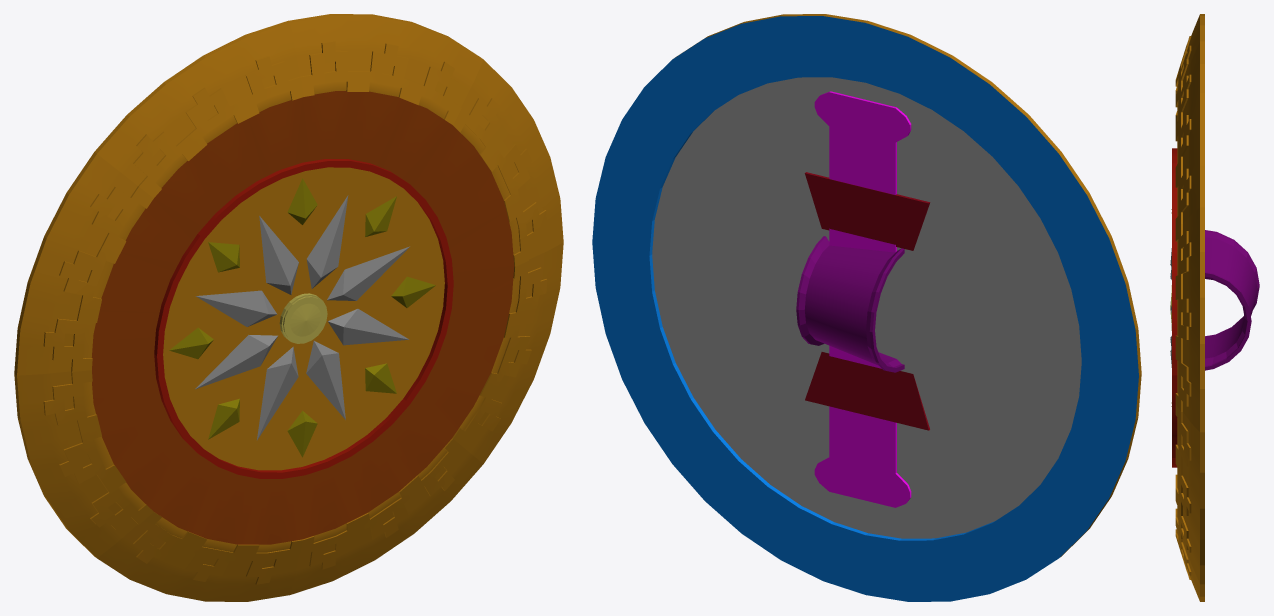
The model's file is Shield-Prefab.fbx.
The picture shows the model from 3 angles, left to right: view 1: azimuth 30°, elevation 25°; view 2: azimuth 150°, elevation 25°; view 3: azimuth 270°, elevation 25°; orthographic projection. The views are drawn at different scales.
Visible parts, largest first — view 1: shield, back_lp, middle, big_part, big_part4, big_part6, big_part2, big_part7, big_part23, big_part5, big_part3, small_part1 (+7 smaller); view 2: BACK_PANEL, back_lp, polySurface138, polySurface133, polySurface134, polySurface139, polySurface137, polySurface135; view 3: shield, polySurface138, back_lp.
Boxes of the visible parts, left/top/right/bottom form: shield: left=17, top=16, right=563, bottom=601; back_lp: left=14, top=14, right=480, bottom=557; middle: left=279, top=293, right=327, bottom=343; big_part: left=306, top=195, right=348, bottom=288; big_part4: left=257, top=346, right=298, bottom=440; big_part6: left=196, top=290, right=277, bottom=326; big_part2: left=328, top=309, right=408, bottom=345; big_part7: left=259, top=216, right=298, bottom=294; big_part23: left=327, top=246, right=409, bottom=300; big_part5: left=195, top=335, right=277, bottom=389; big_part3: left=306, top=341, right=345, bottom=419; small_part1: left=365, top=196, right=396, bottom=236; BACK_PANEL: left=652, top=77, right=1081, bottom=538; back_lp: left=592, top=14, right=1141, bottom=601; polySurface138: left=796, top=236, right=904, bottom=372; polySurface133: left=814, top=91, right=911, bottom=194; polySurface134: left=814, top=406, right=911, bottom=507; polySurface139: left=805, top=352, right=929, bottom=430; polySurface137: left=804, top=172, right=930, bottom=250; polySurface135: left=829, top=228, right=896, bottom=252; shield: left=1172, top=15, right=1199, bottom=600; polySurface138: left=1205, top=230, right=1259, bottom=370; back_lp: left=1200, top=14, right=1204, bottom=601.
Size of the model in its own units: 2 by 2 by 0.304.
